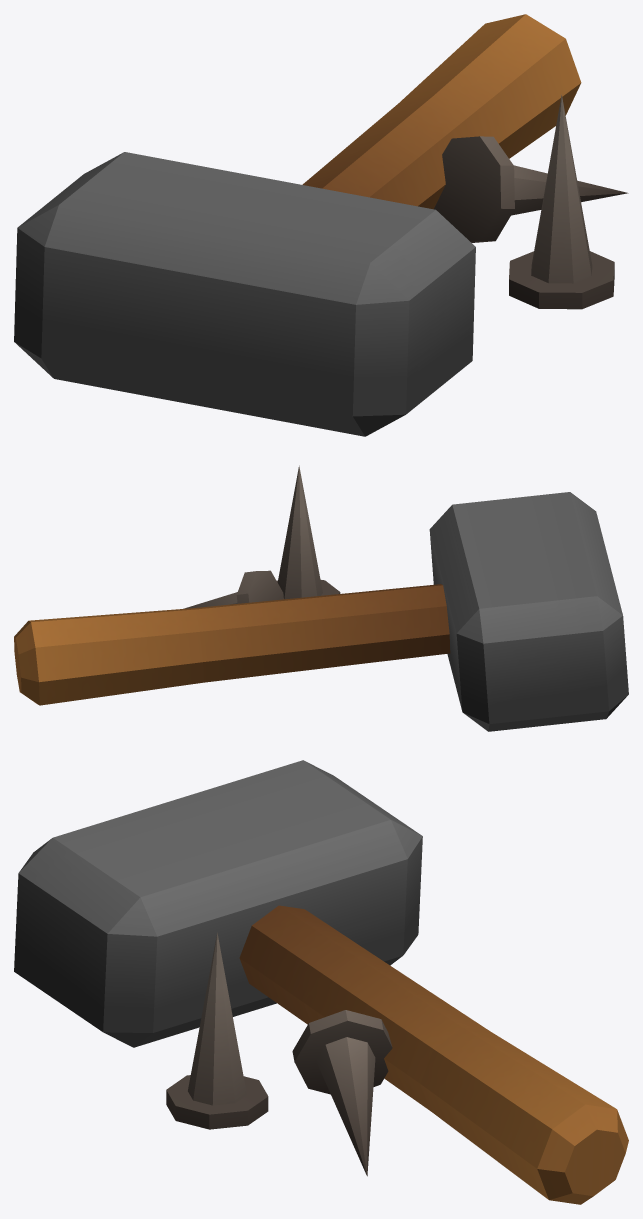
File: obj_SackrugCart.001.fbx
3 views of the same model, one above another, from view 1: azimuth 30°, elevation 25°; view 2: azimuth 150°, elevation 25°; view 3: azimuth 270°, elevation 25° (orthographic). The views are drawn at different scales.
Visible parts, largest first — view 1: obj_SackrugCart.001; view 2: obj_SackrugCart.001; view 3: obj_SackrugCart.001.
Boxes of the visible parts, x1,y1,x2,y2 form: obj_SackrugCart.001: (14,14,628,436); obj_SackrugCart.001: (14,465,628,731); obj_SackrugCart.001: (14,760,628,1204).
Bounding box in the file's own units: 26.84 × 8.26 × 22.83.
